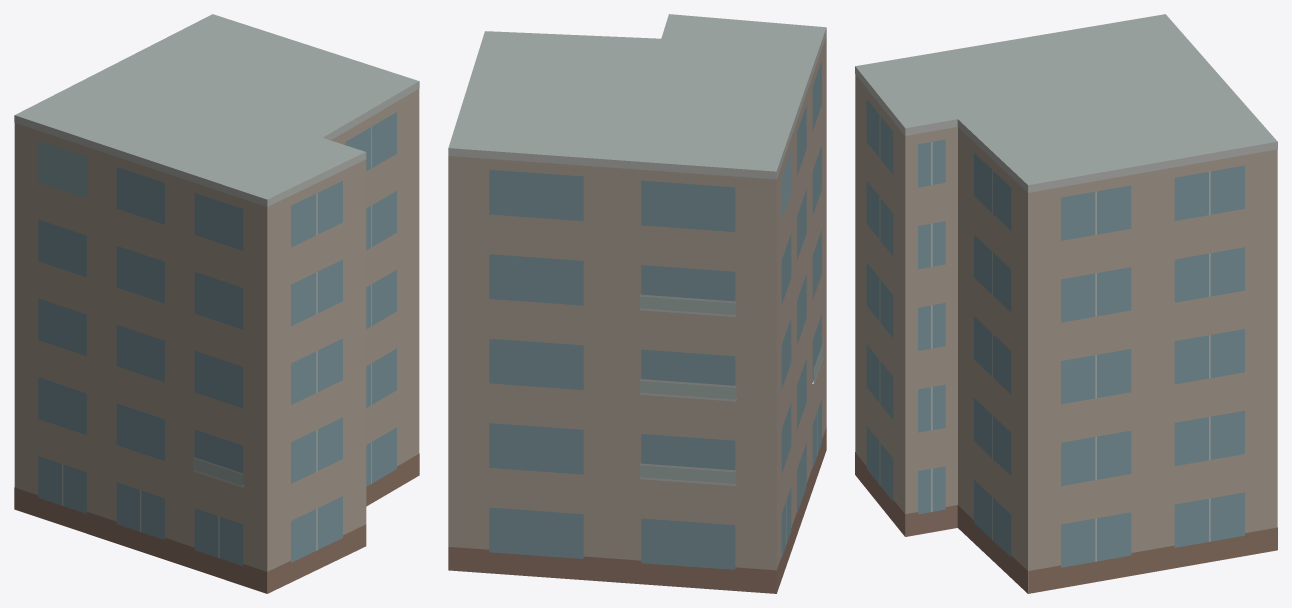
Rendered from survey-upis-32641599.glb.
3 renders of one model, left to right at view 1: azimuth 30°, elevation 25°; view 2: azimuth 150°, elevation 25°; view 3: azimuth 270°, elevation 25°, orthographic. The views are drawn at different scales.
Parts seen in each view (by area): view 1: survey-upis-32641599.tmp; view 2: survey-upis-32641599.tmp; view 3: survey-upis-32641599.tmp.
Part boxes in pixels (x1,y1,x2,y2): survey-upis-32641599.tmp: (14, 14, 419, 593); survey-upis-32641599.tmp: (448, 14, 826, 593); survey-upis-32641599.tmp: (855, 14, 1277, 593).
Bounding box in the file's own units: 11.79 × 13.1 × 12.29.
